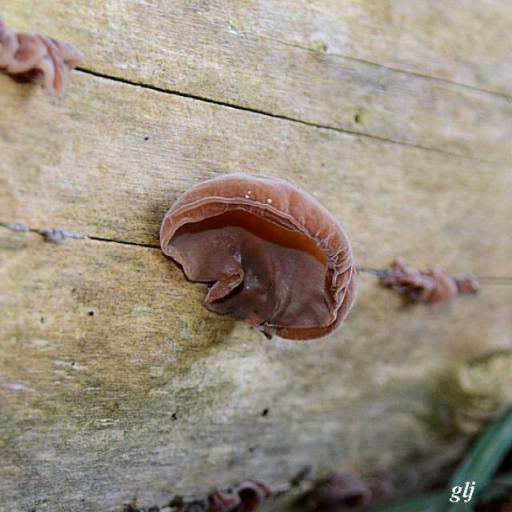Wood Ear Mushroom: (159, 173, 354, 342)
